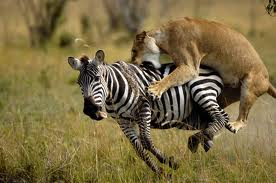lion: (128, 17, 276, 131)
zebra: (69, 50, 236, 176)
